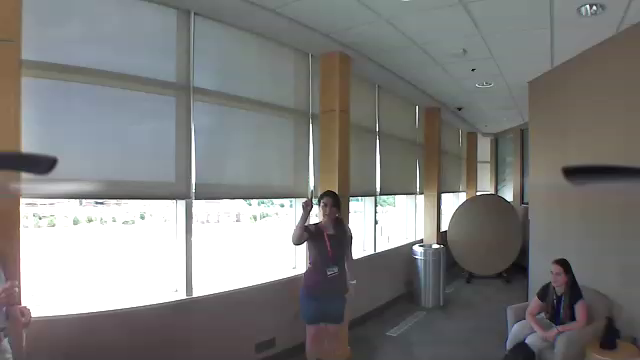up: (297, 189, 316, 219)
